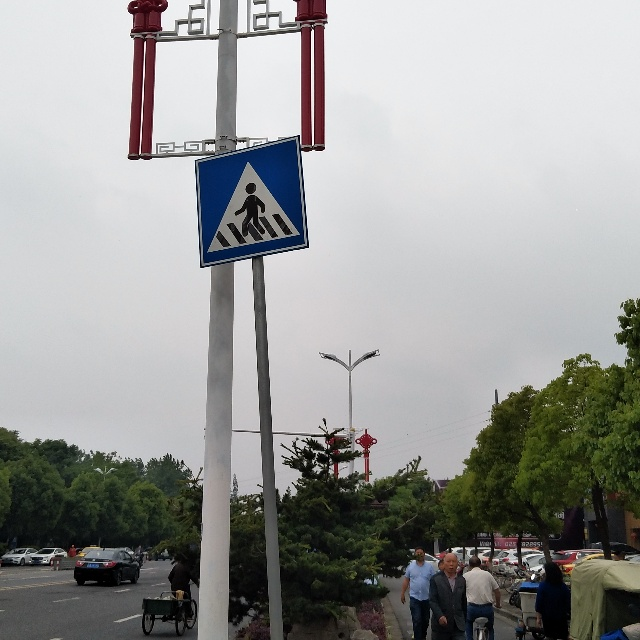crosswalk: (195, 132, 317, 268)
